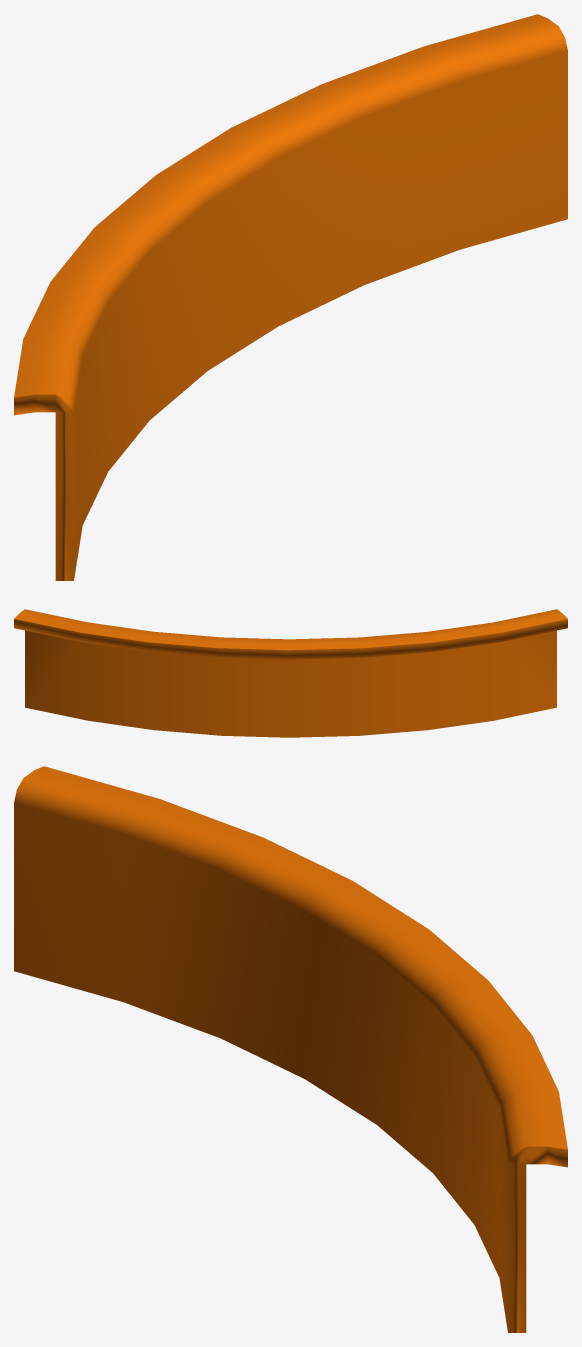
The model's file is Plastic_Pipe_C_Left_Inv.fbx.
The picture shows the model from 3 angles, top to bottom: view 1: azimuth 30°, elevation 25°; view 2: azimuth 150°, elevation 25°; view 3: azimuth 270°, elevation 25°; orthographic projection. The views are drawn at different scales.
Parts seen in each view (by area): view 1: Plastic_Pipe_C_Left_Inv; view 2: Plastic_Pipe_C_Left_Inv; view 3: Plastic_Pipe_C_Left_Inv.
Boxes of the visible parts, x1,y1,x2,y2 form: Plastic_Pipe_C_Left_Inv: (14, 14, 567, 580); Plastic_Pipe_C_Left_Inv: (14, 609, 567, 737); Plastic_Pipe_C_Left_Inv: (14, 766, 567, 1332).
Size of the model in its own units: 10.9 by 2.47 by 6.65.
